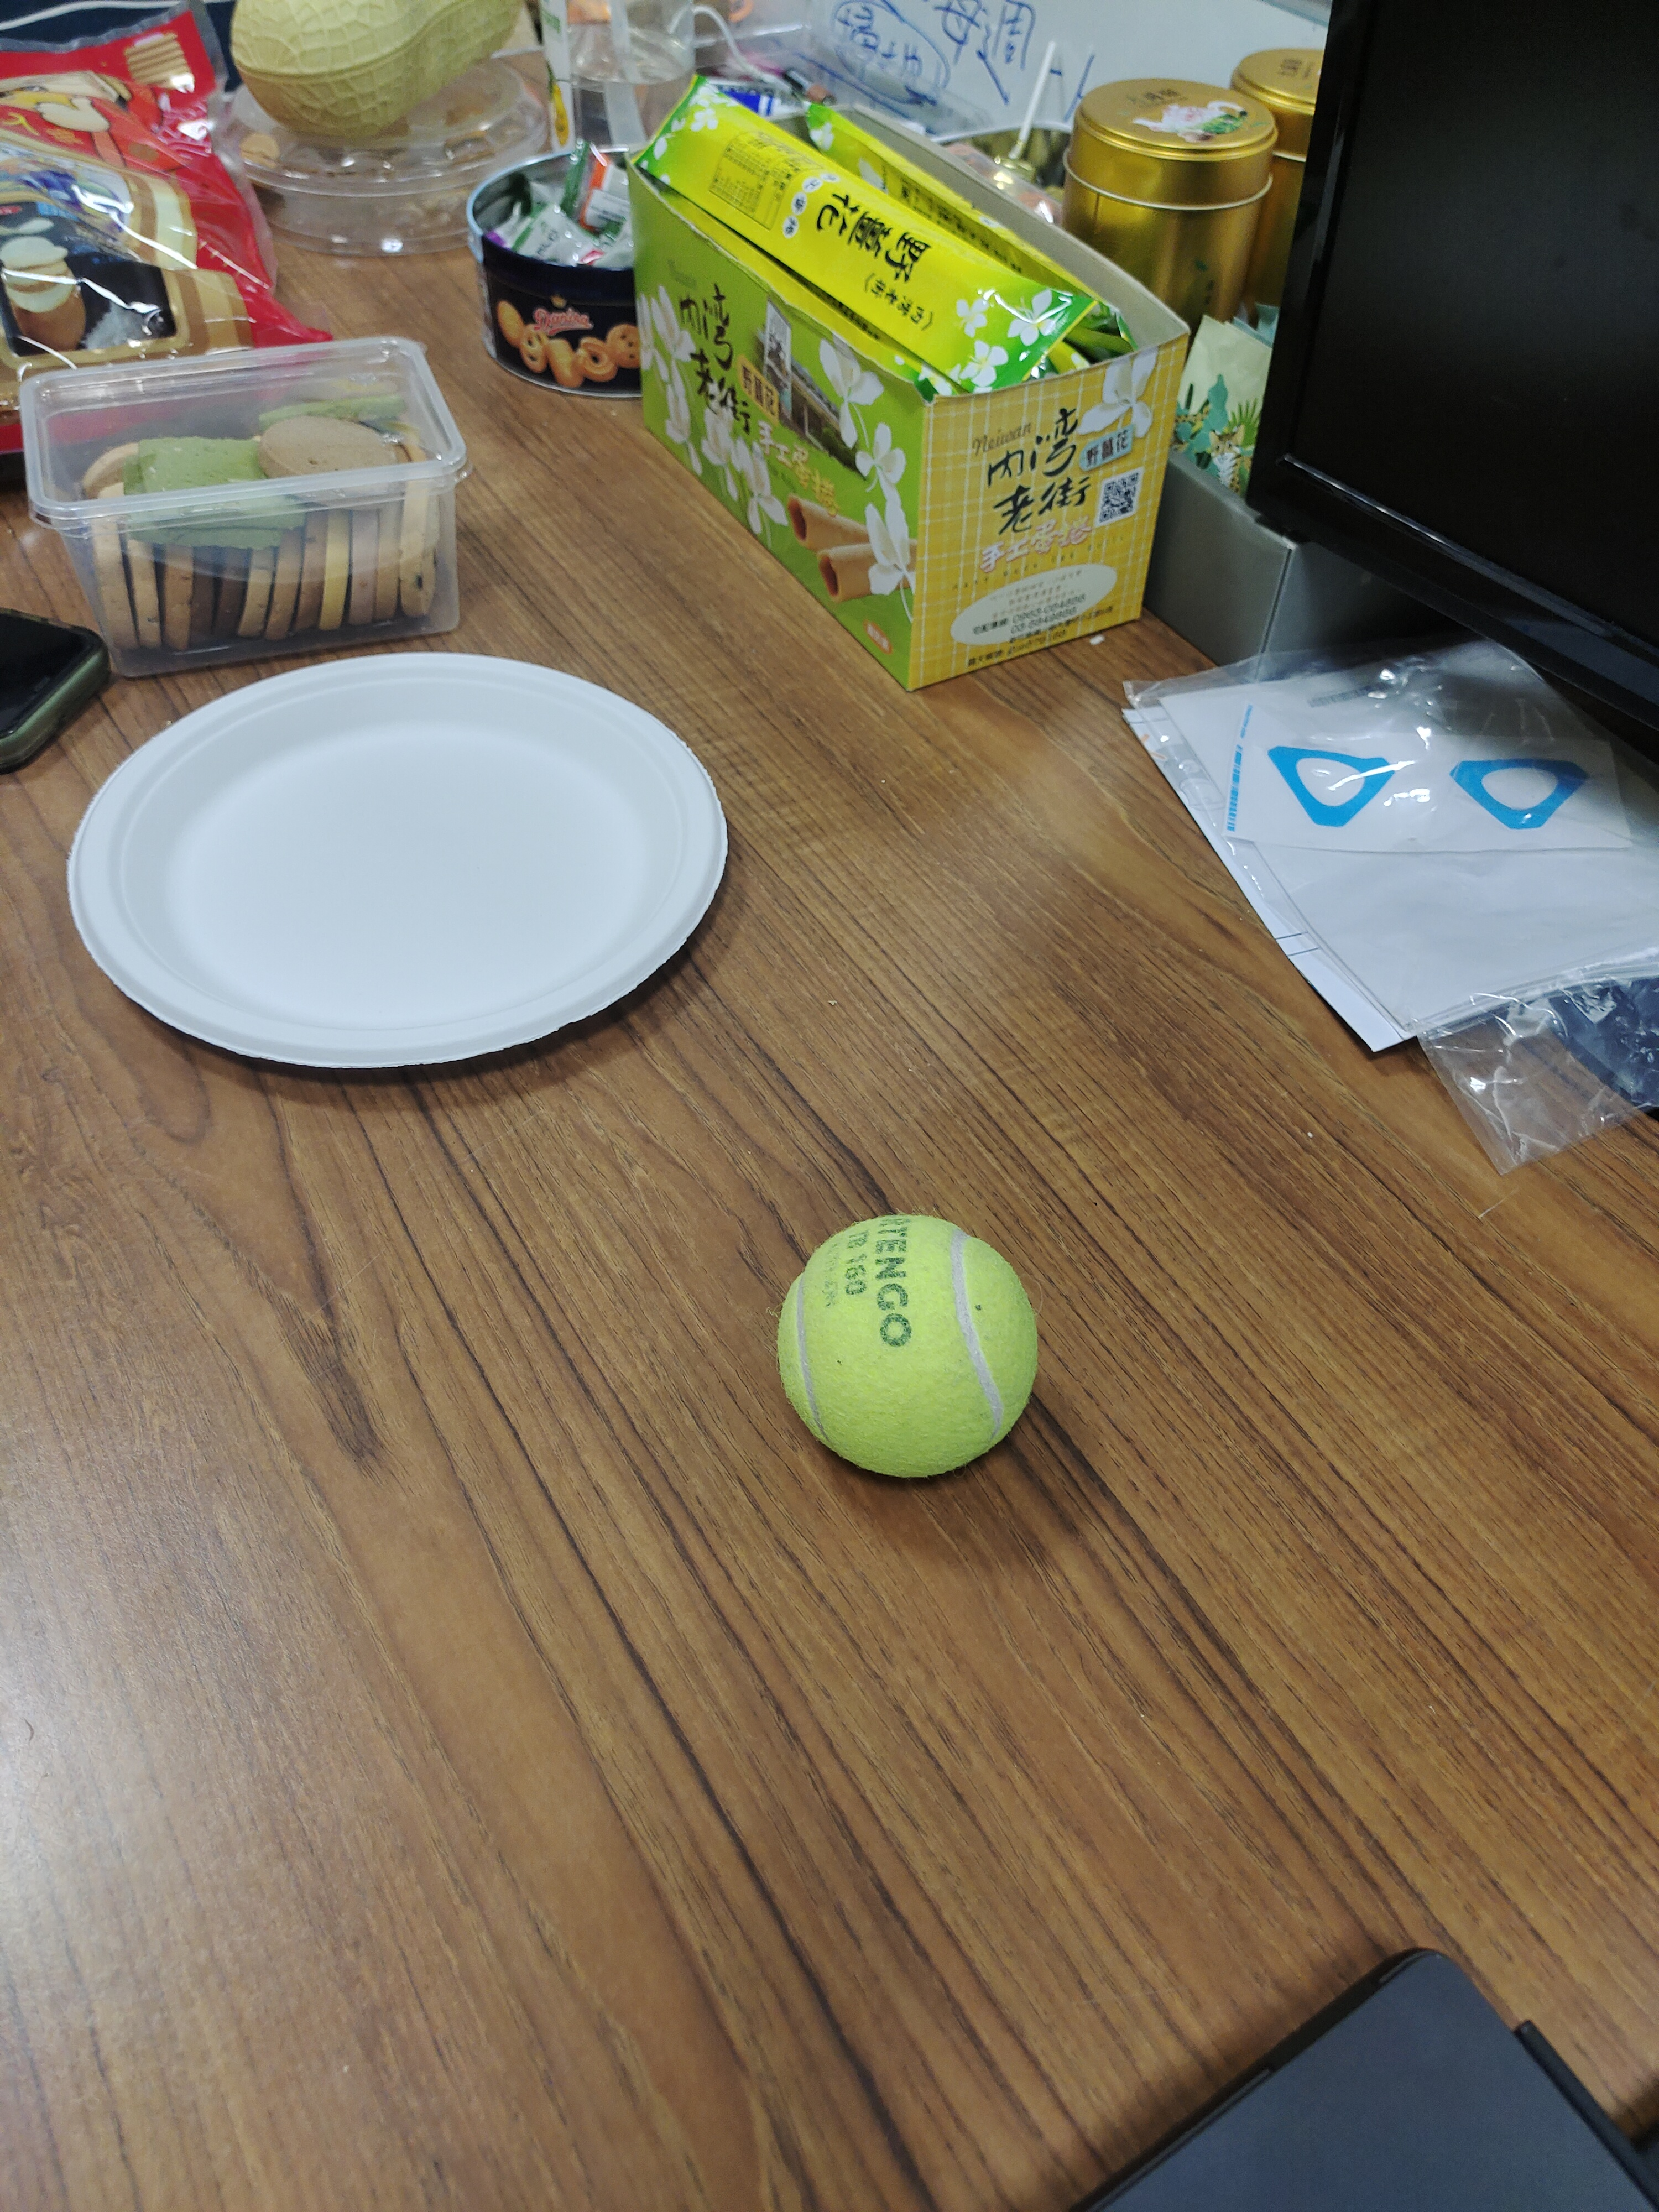tennis: (769, 1205, 1049, 1486)
